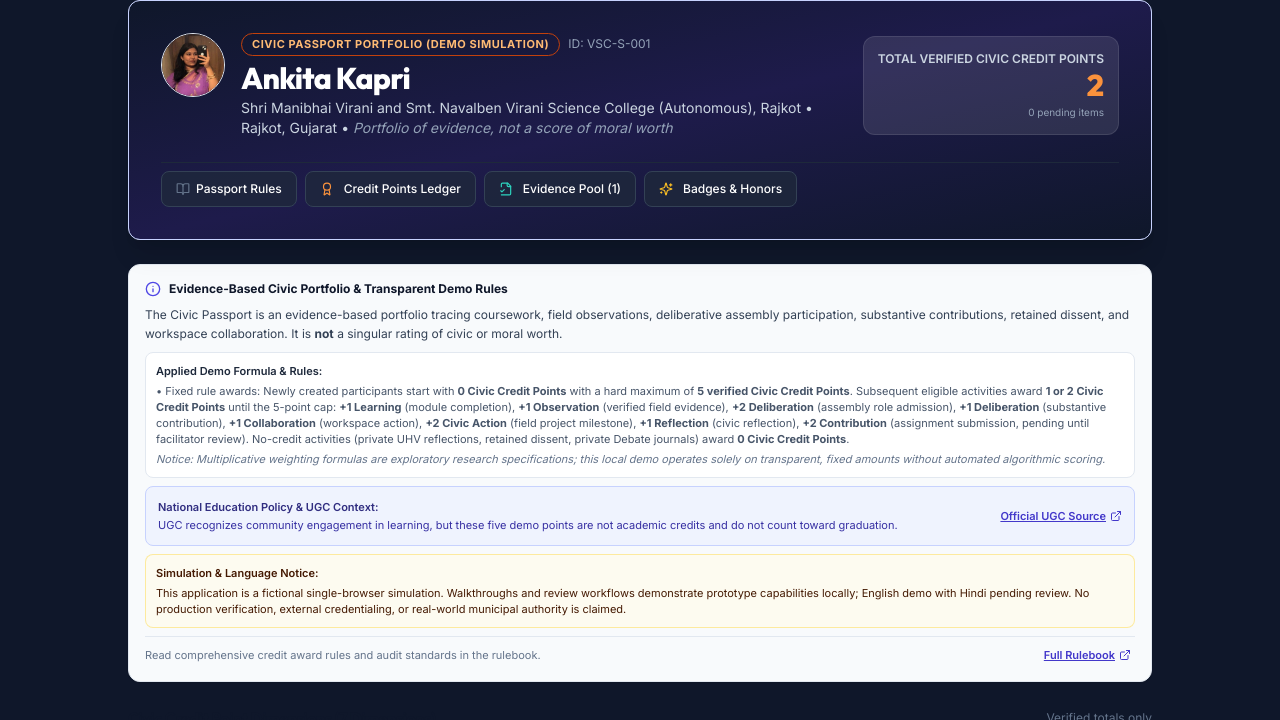
Test: Point-of-Use Rules Controls Across Platform Modules › 8. Passport Point-of-Use Rules Control & Full Rulebook Link › renders Passport Rules on PassportPage and direct link to full rulebook
The image size is (1280, 720).
Click the button with test id "passport-rules-btn". click: {"x": 229, "y": 188}
box: [161, 170, 297, 206]
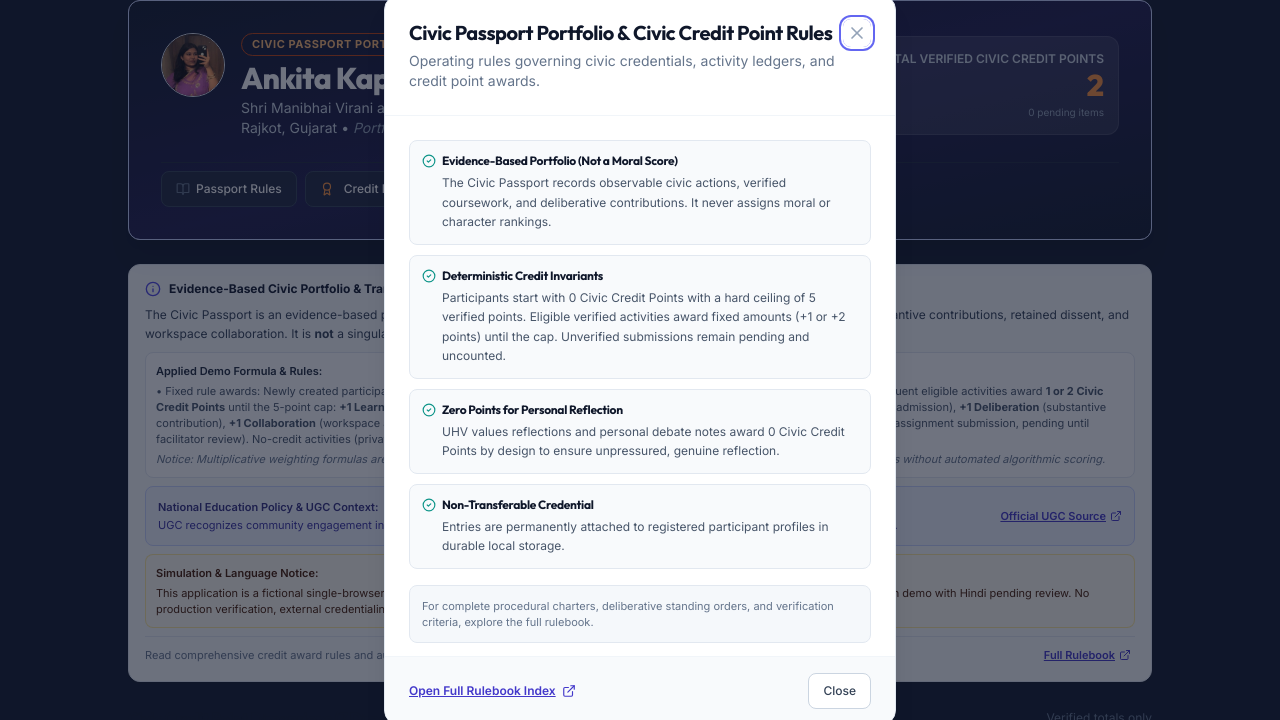
Check: the dialog is shown
Check: the heading "Civic Passport Portfolio & Civic Credit Point Rules" is shown, box [409, 19, 843, 47]
Check: the text "Evidence-Based Portfolio (Not a Moral Score)" is shown, box [442, 153, 678, 169]
